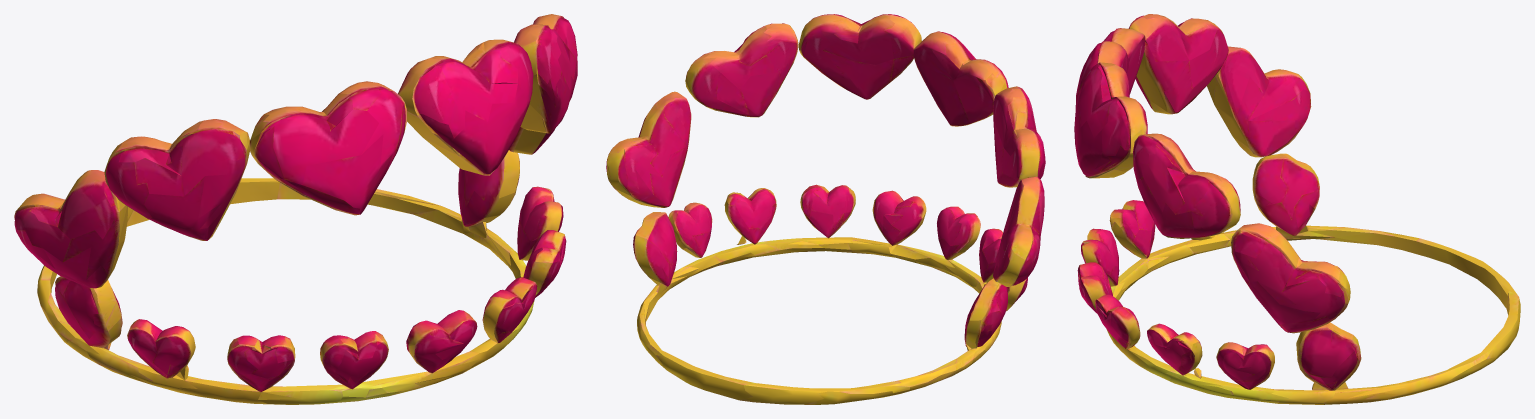
Rendered from heart-crown.glb.
3 renders of one model, left to right at view 1: azimuth 30°, elevation 25°; view 2: azimuth 150°, elevation 25°; view 3: azimuth 270°, elevation 25°, orthographic. The views are drawn at different scales.
Parts seen in each view (by area): view 1: mesh_node; view 2: mesh_node; view 3: mesh_node.
Part boxes in pixels (left/top/right/bottom): mesh_node: left=14, top=14, right=577, bottom=404; mesh_node: left=606, top=14, right=1045, bottom=404; mesh_node: left=1074, top=14, right=1520, bottom=404.
Size of the model in its own units: 1.9 by 1.08 by 1.62.
Materials: 1 (1 with a texture image).
